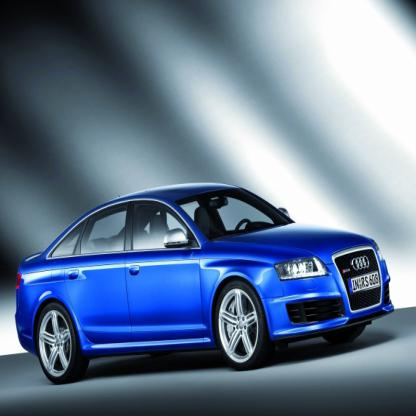Vehicle: (15, 183, 395, 384)
